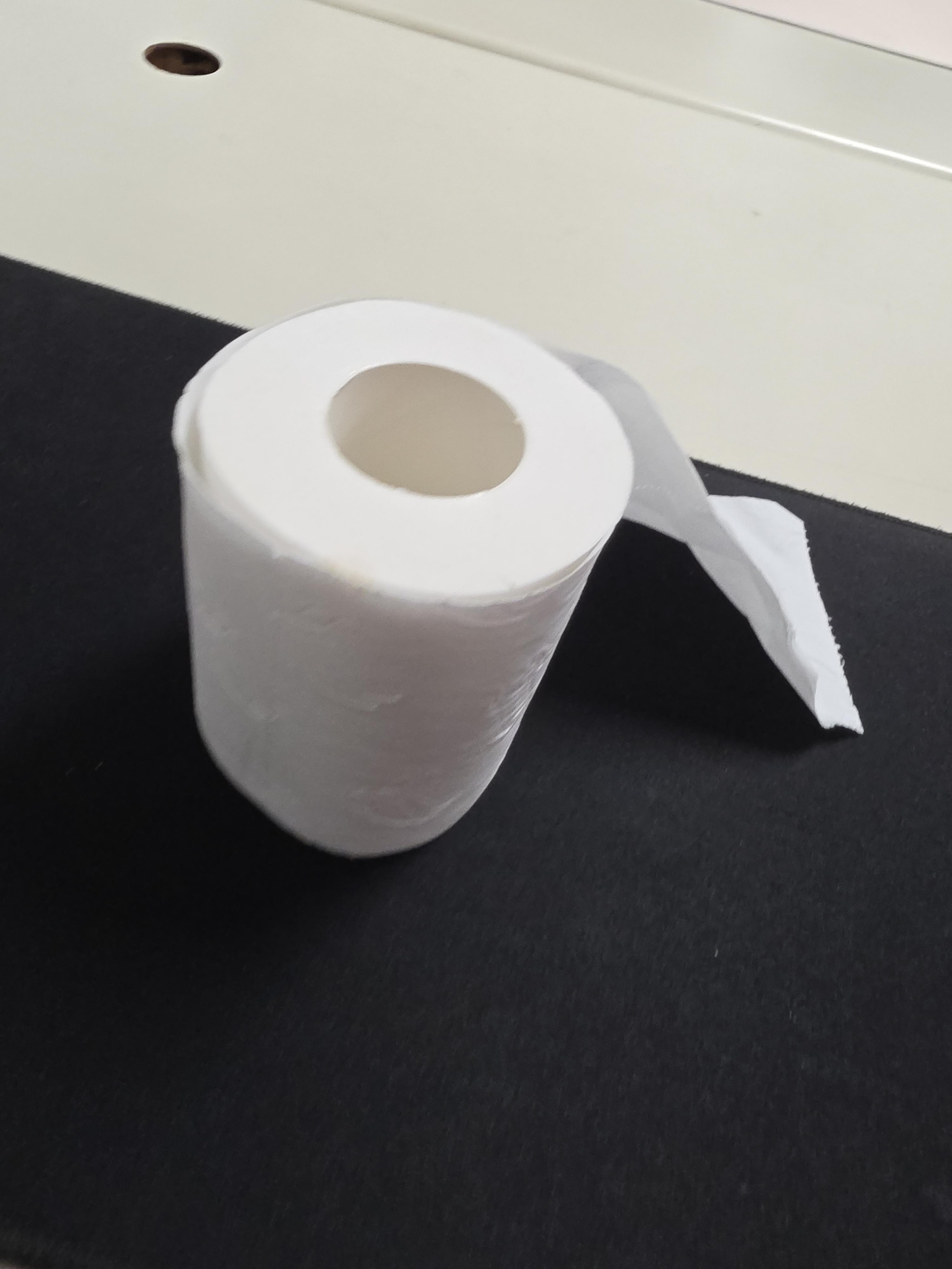tissue: (173, 297, 865, 859)
